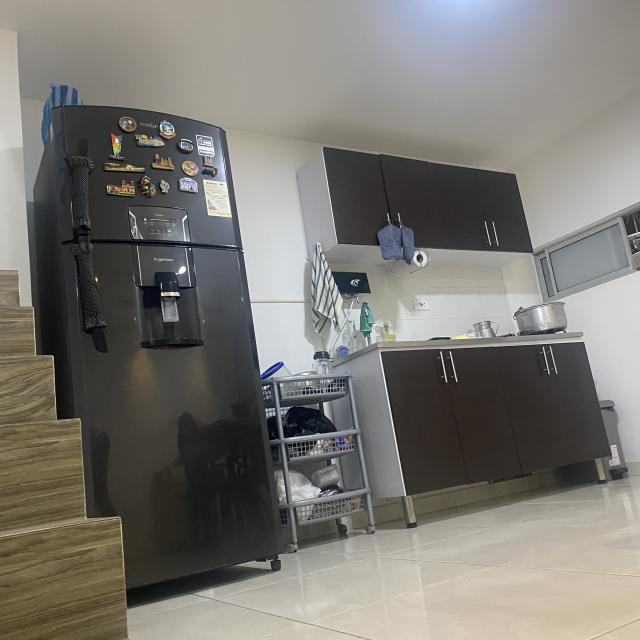obstacle: (62, 101, 304, 588), (367, 325, 638, 506), (255, 357, 388, 544)
stair: (1, 258, 150, 640)
